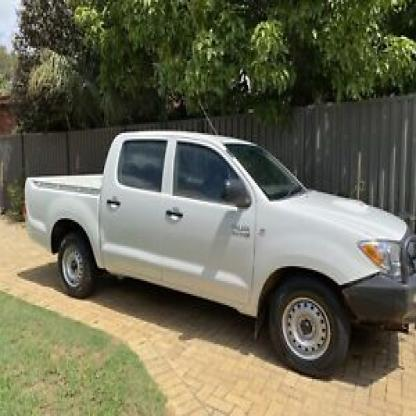light_vehicle: (20, 118, 414, 383)
